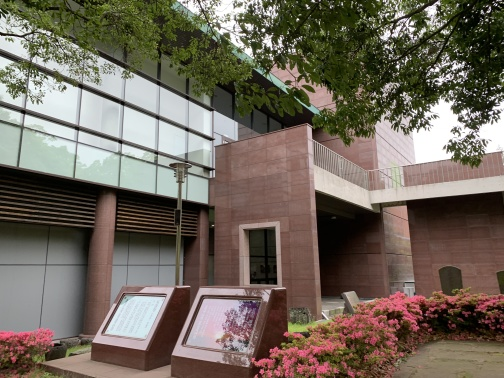Museum: (53, 78, 461, 378)
